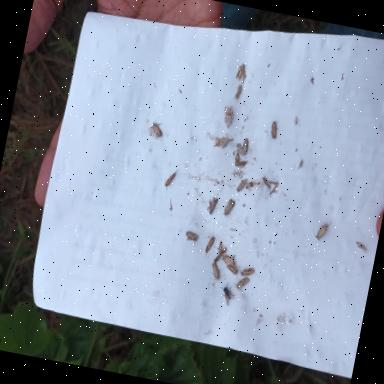pbw: (310, 218, 332, 243), (148, 115, 166, 138), (162, 167, 178, 190), (204, 230, 216, 259), (216, 254, 237, 270), (208, 262, 224, 282), (236, 264, 255, 280), (234, 276, 250, 294), (222, 198, 236, 218), (205, 196, 219, 216), (183, 231, 199, 247), (231, 142, 248, 156), (232, 146, 242, 168), (236, 178, 249, 194), (240, 136, 250, 156), (224, 264, 240, 276), (213, 248, 225, 264), (232, 84, 242, 103), (235, 63, 245, 82), (270, 121, 280, 140), (354, 242, 368, 253), (235, 160, 247, 171), (217, 242, 223, 255)
